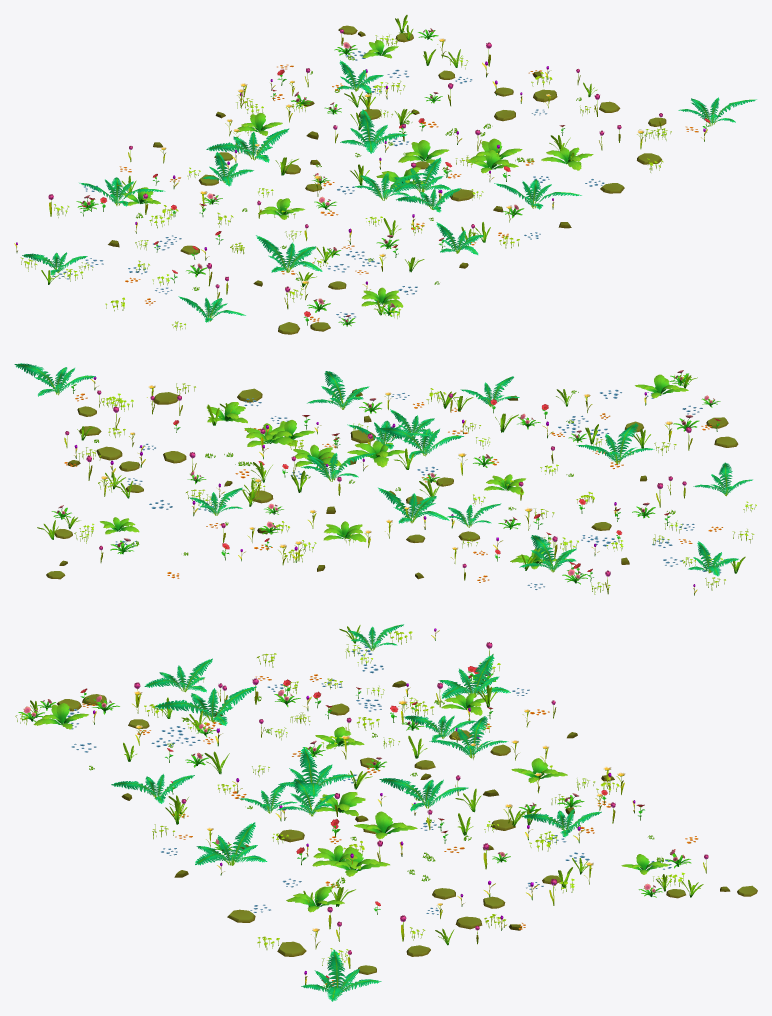
Rendered from FlowersX.fbx.
3 views of the same model, one above another, from view 1: azimuth 30°, elevation 25°; view 2: azimuth 150°, elevation 25°; view 3: azimuth 270°, elevation 25° (orthographic). The views are drawn at different scales.
Visible parts, largest first — view 1: Plane.001; view 2: Plane.001; view 3: Plane.001.
Boxes of the visible parts, x1,y1,x2,y2 form: Plane.001: (14,15,756,334); Plane.001: (14,363,756,595); Plane.001: (15,624,757,1001).
Size of the model in its own units: 10.32 by 0.7734 by 8.38.
2 materials, 1 textured.
